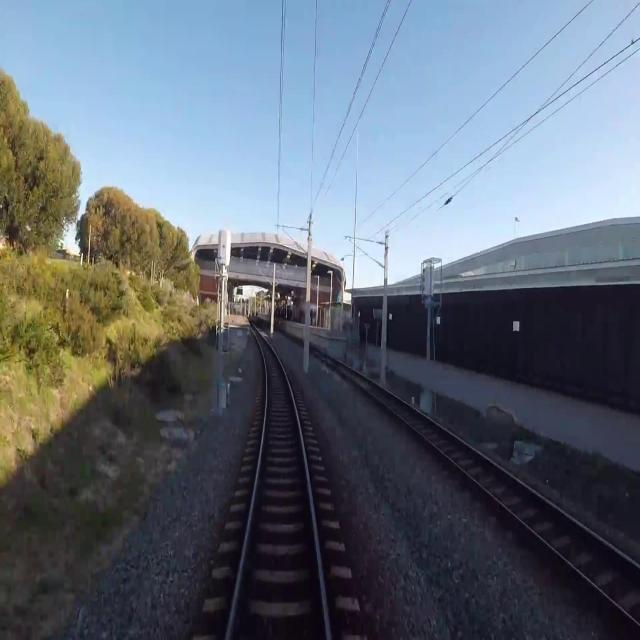rail-track: (317, 352, 640, 619), (228, 325, 327, 639)
